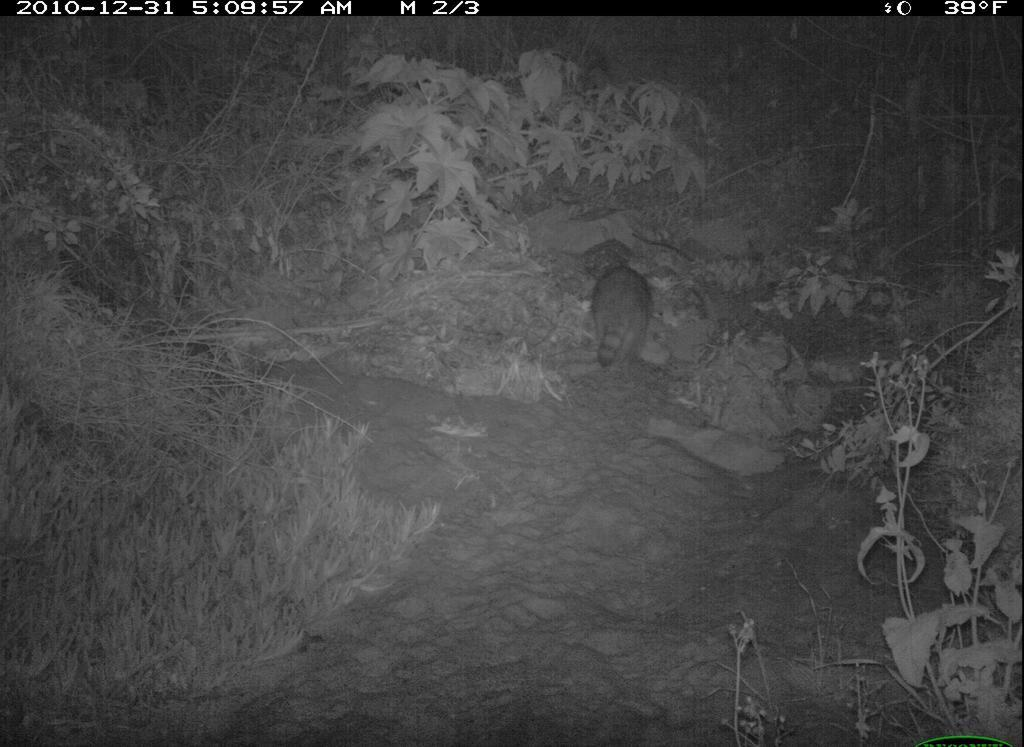raccoon: (578, 230, 685, 381)
